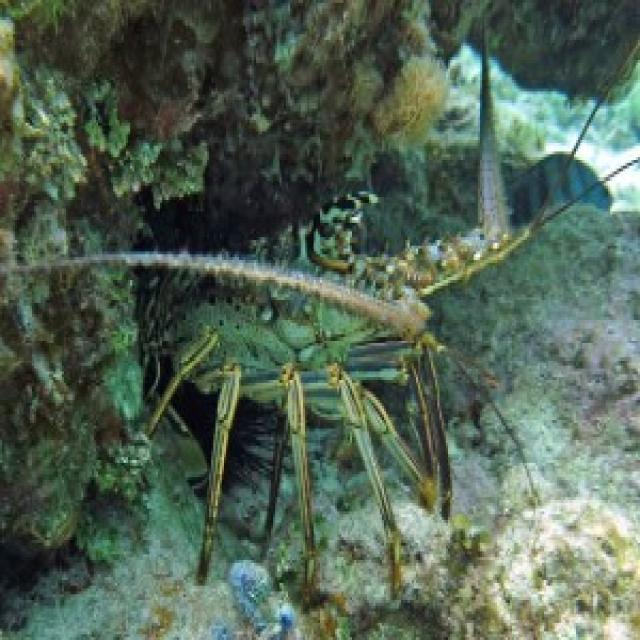lobsters: (58, 118, 568, 573)
